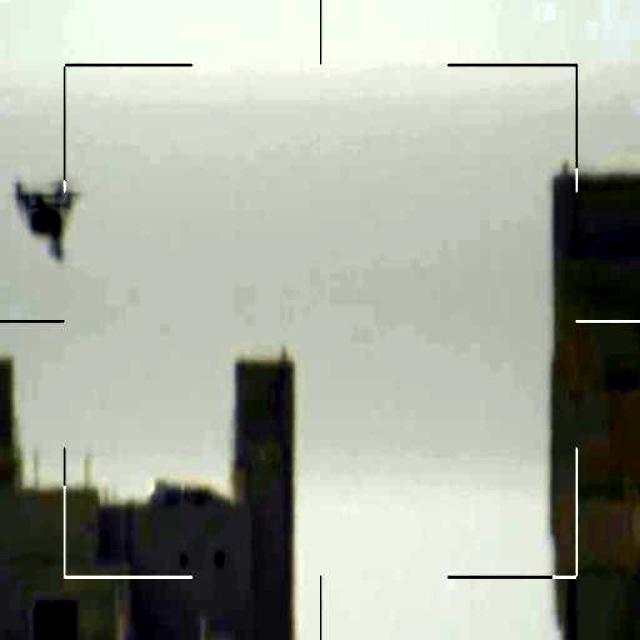bird: (10, 176, 71, 262)
